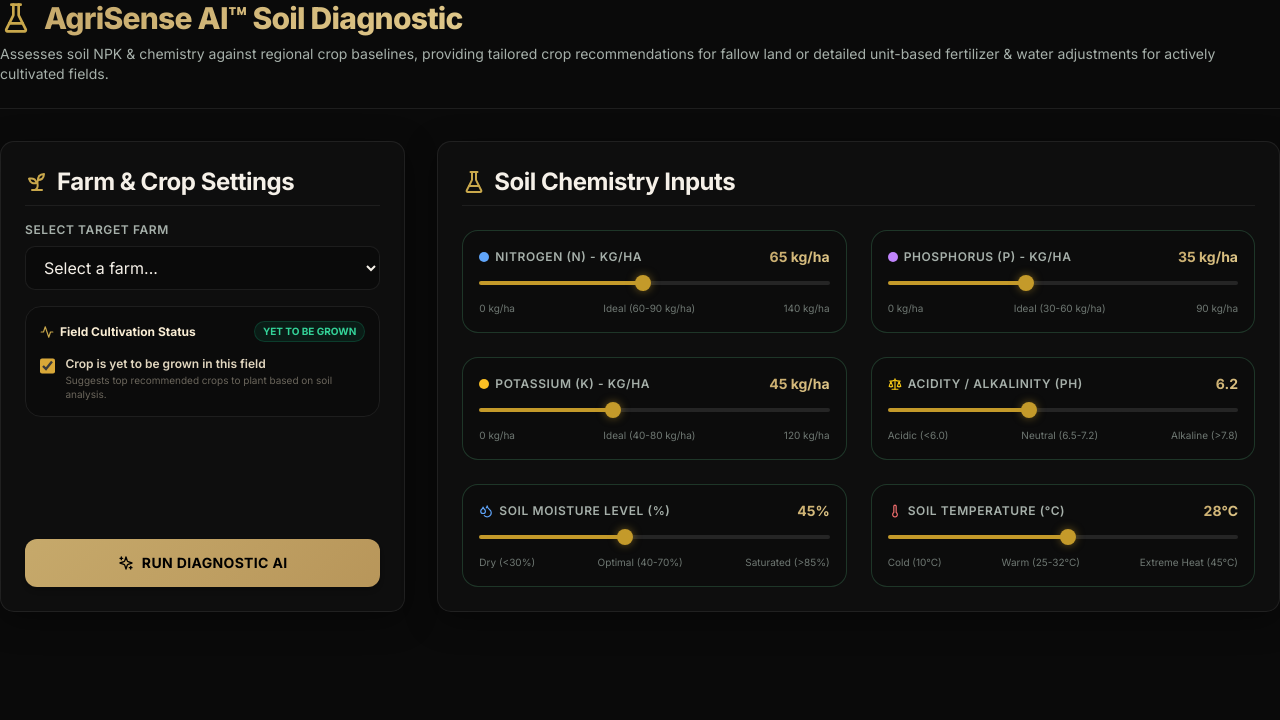
Test: SoilAnalysisContent - Integration and Regression Tests › safely handles opening diagnostics history without throwing on invalid AI reports
The image size is (1280, 720).
Select "farm-mandya-1" in the dropdown at (203, 268), box [25,246,380,290]
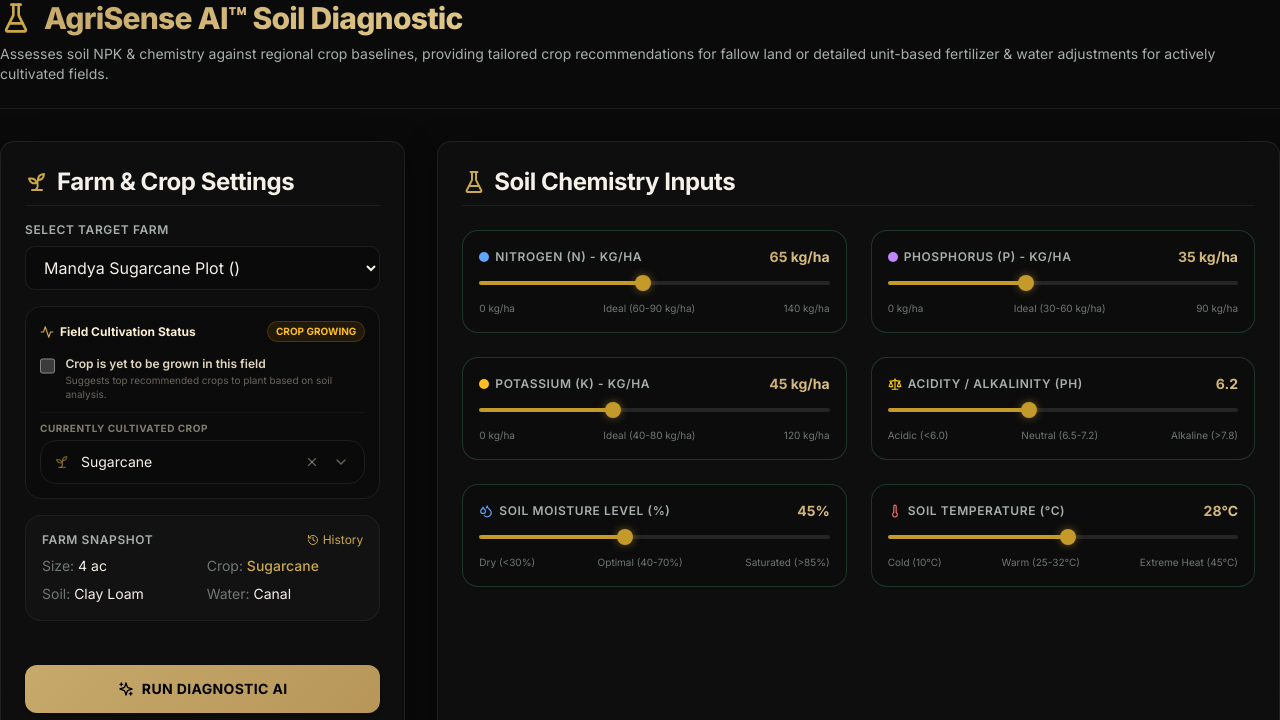
Now the button "History" is shown
Click the button "History".
click(335, 540)  # box [307,532,363,548]
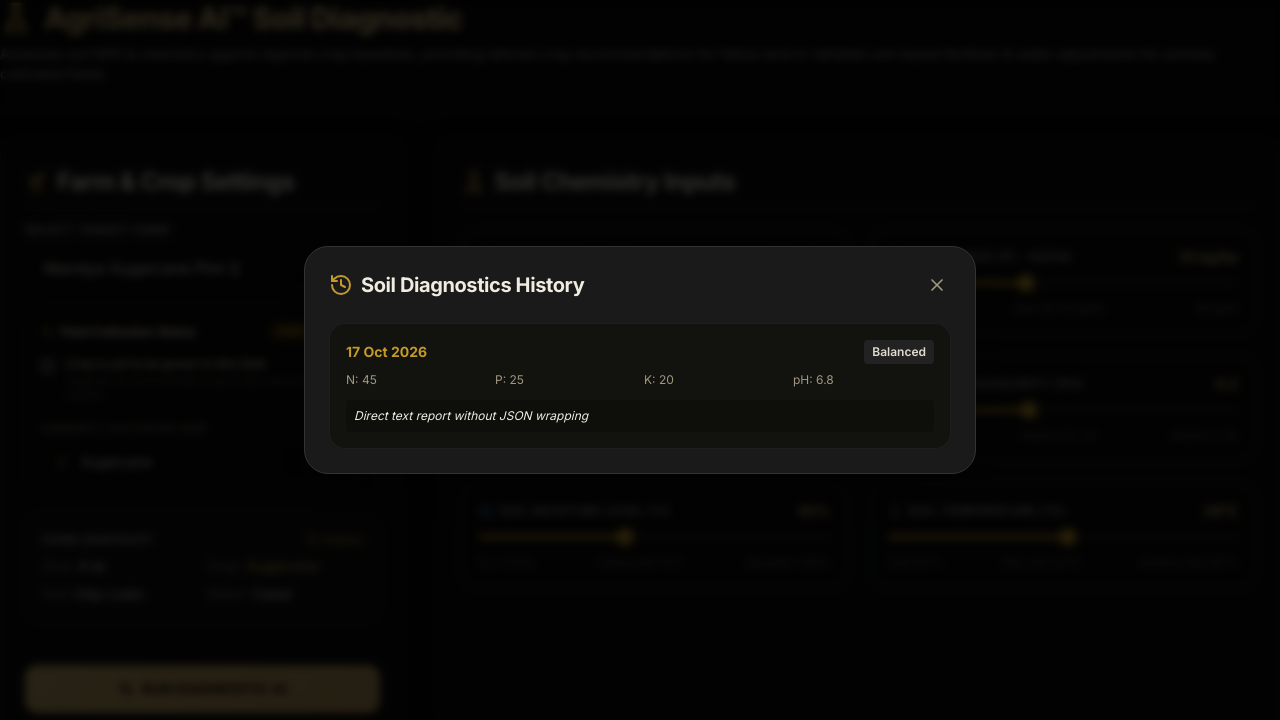
Now the heading "Soil Diagnostics History" is shown, box [329,271,584,299]
Now the text "Balanced" is shown, box [864,340,934,364]
Now the text "Direct text report without JSON wrapping" is shown, box [346,400,934,432]
Close button with X icon
Click the button named "Close".
click(937, 285)  # box [923,271,951,299]
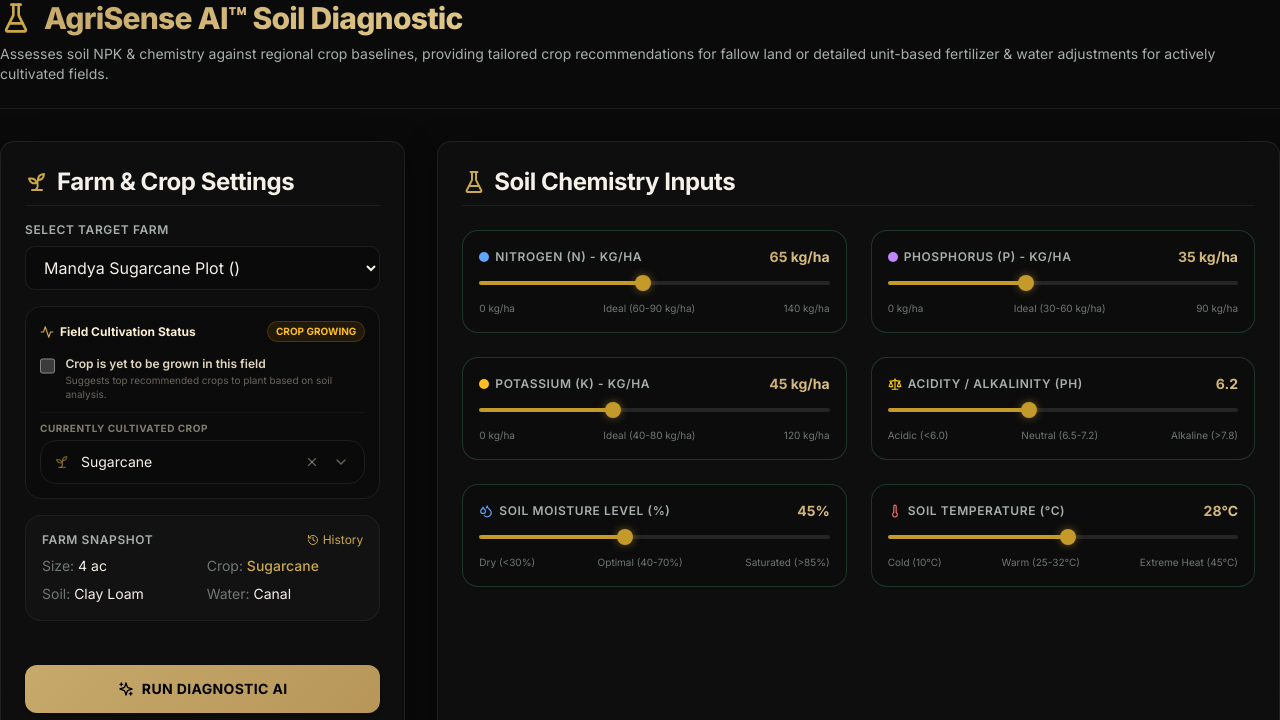
Now the heading "Soil Diagnostics History" is gone
